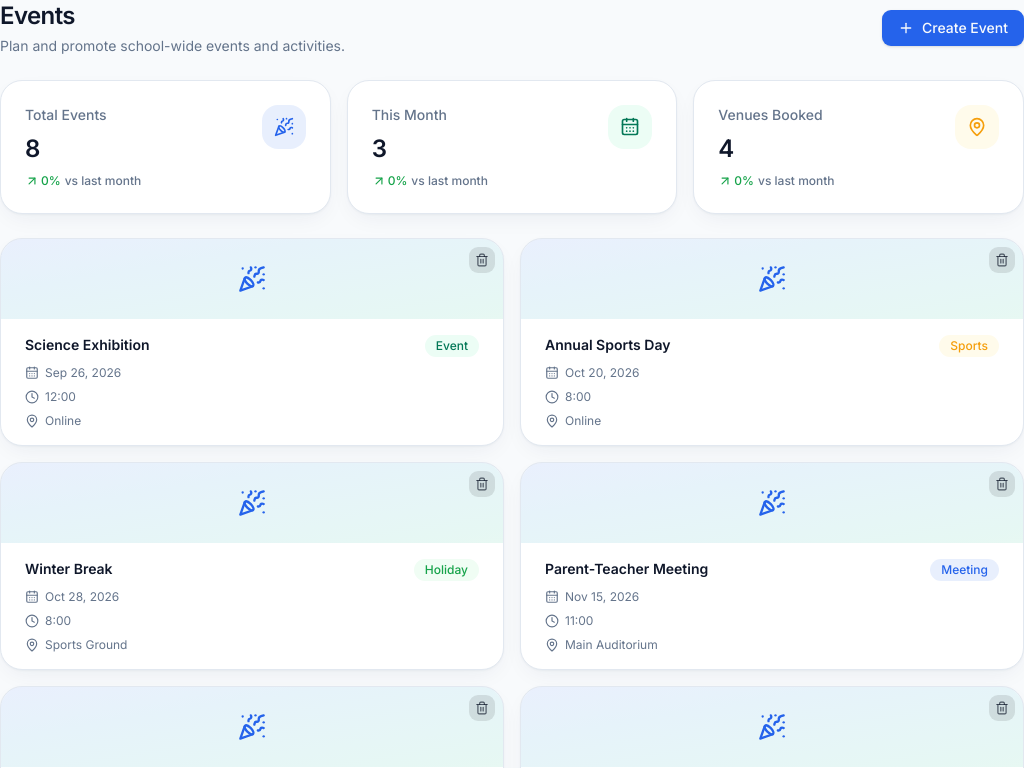
Test case: EventsPage › creates a new event scoped to the current school and adds it to the list
Click the button "Create Event" at (953, 28), box [882,10,1023,46]
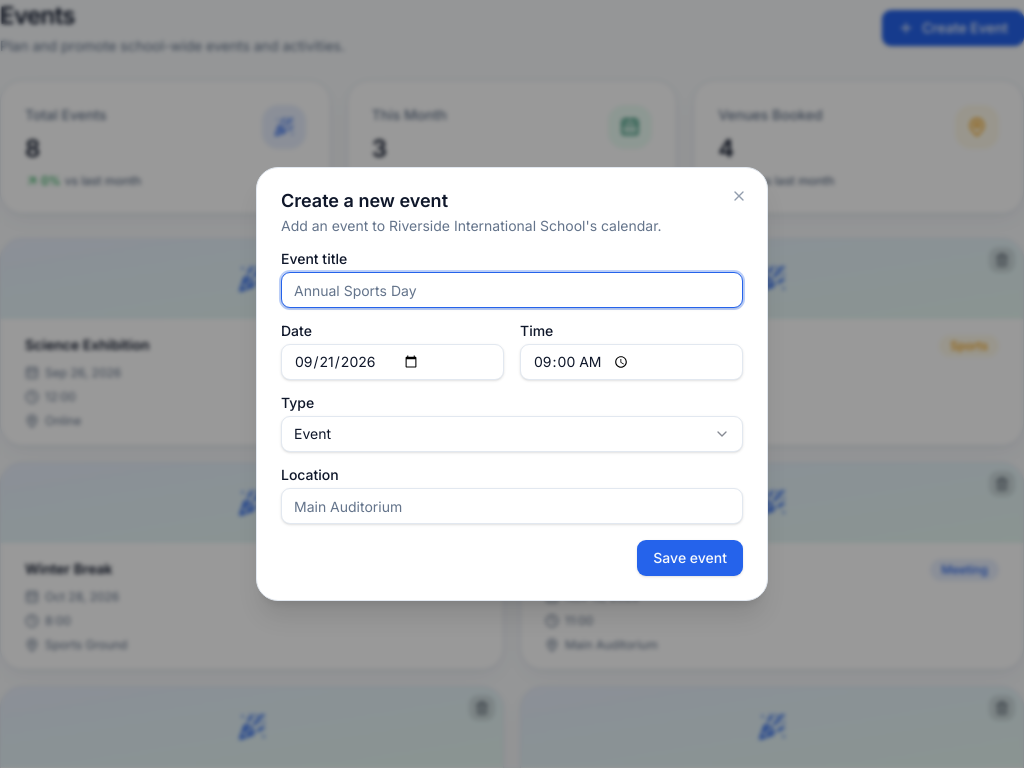
Type "QA Automation Fest" into the field labelled "Event title" at (512, 290), box [281,272,743,308]
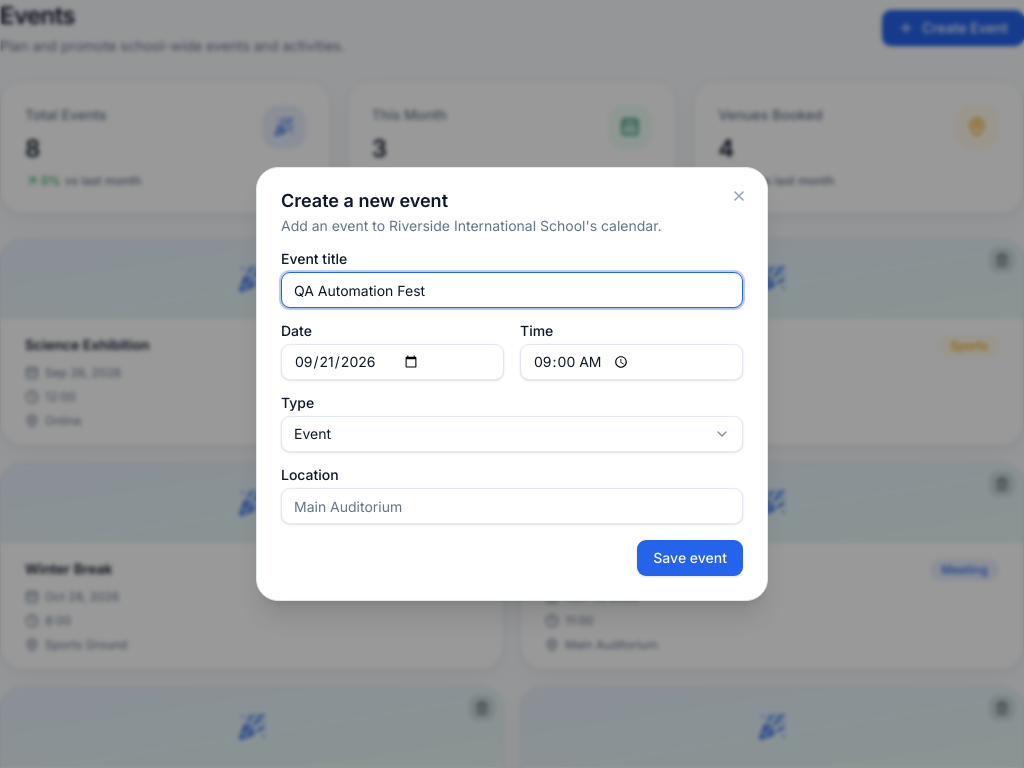
Click the dropdown named "type" at (313, 434), box [281,416,743,452]
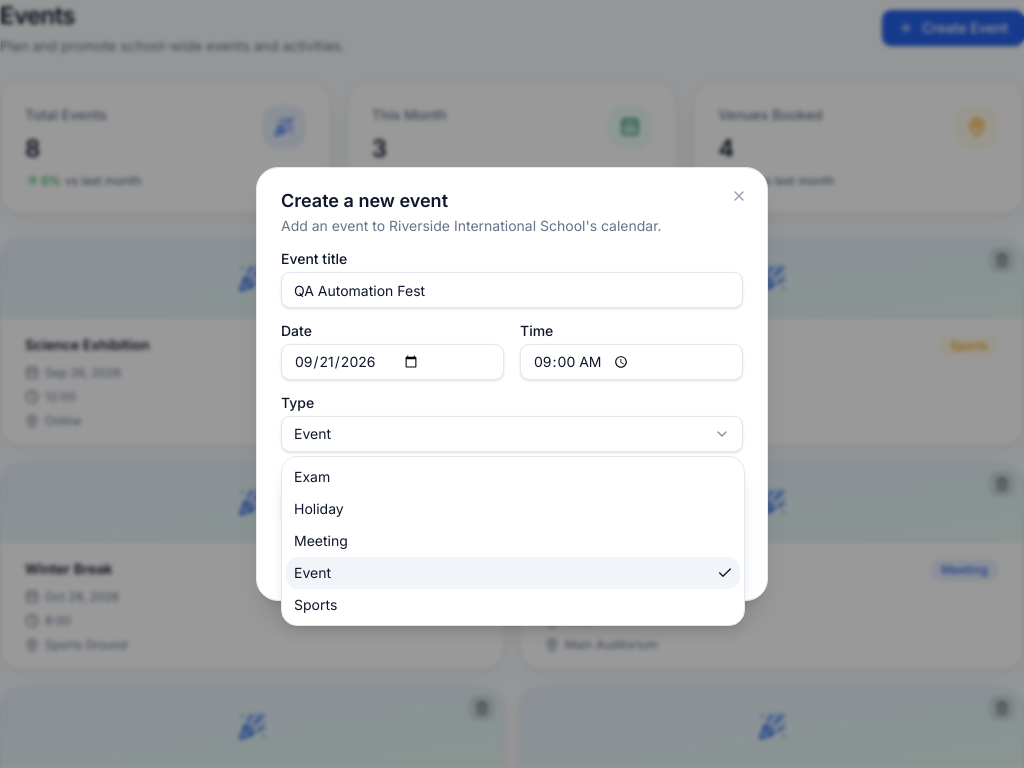
Click the option "Sports" at (316, 604), box [294,596,337,613]
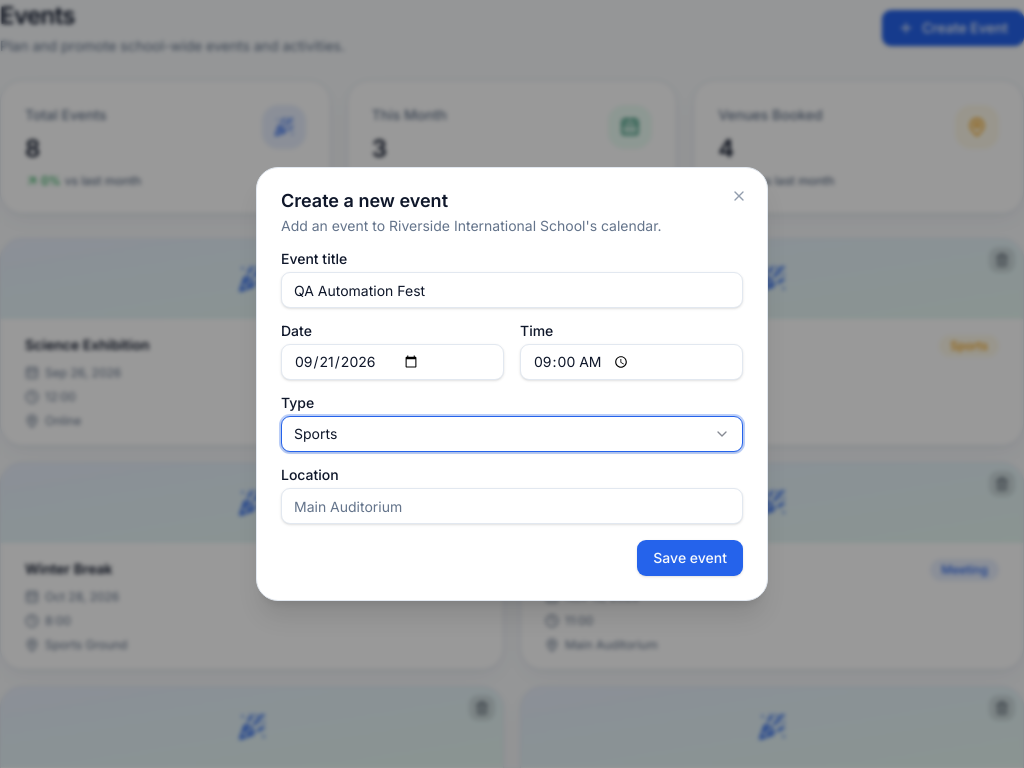
Type "Sports Ground" into the field labelled "Location" at (512, 506), box [281,488,743,524]
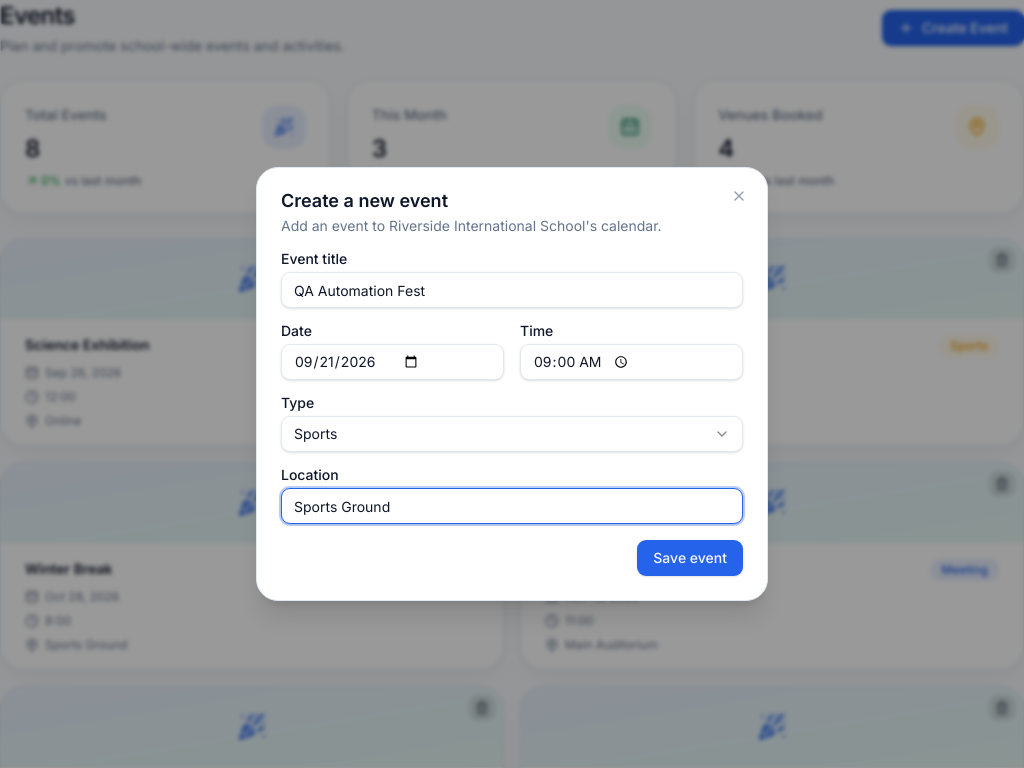
Click the button "Save event" at (690, 558), box [637,540,743,576]
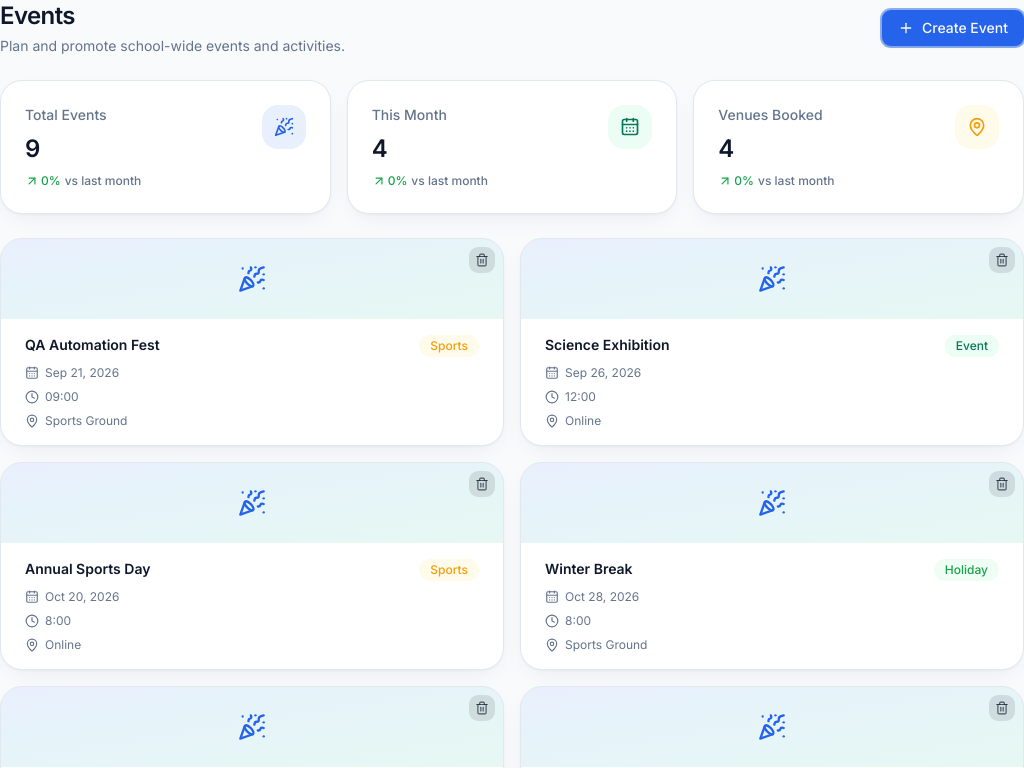
Check: the text "QA Automation Fest" is shown, box [25,335,160,355]
